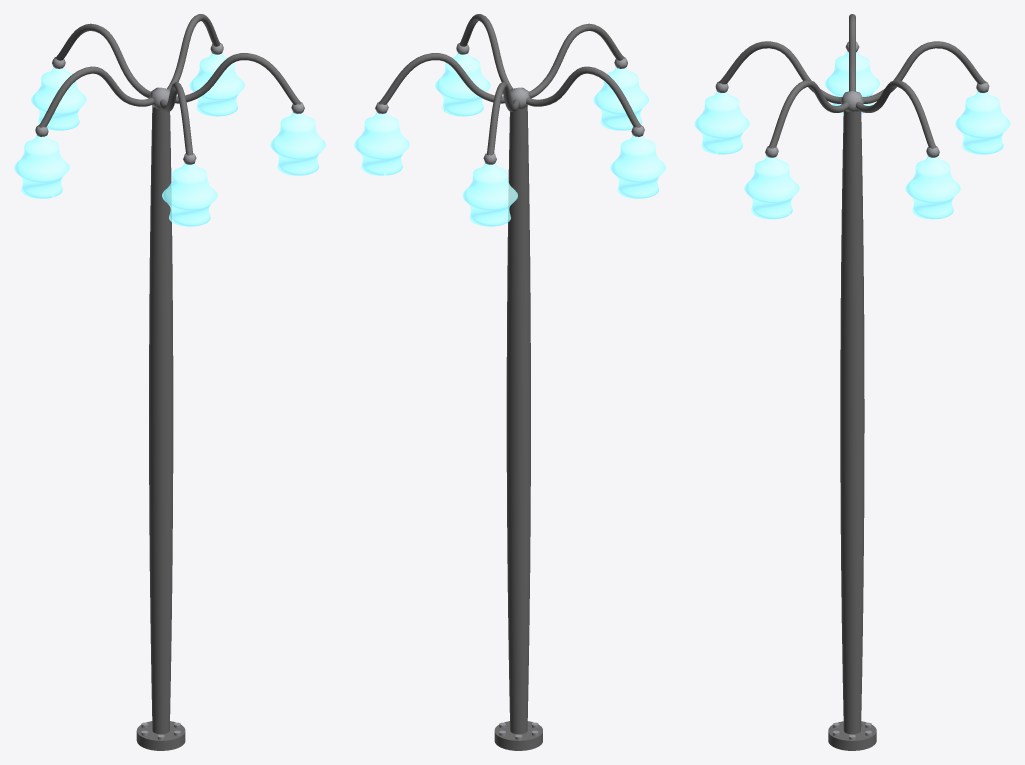
File: Street Lights.glb
The picture shows the model from 3 angles, left to right: view 1: azimuth 30°, elevation 25°; view 2: azimuth 150°, elevation 25°; view 3: azimuth 270°, elevation 25°; orthographic projection.
Parts seen in each view (by area): view 1: Pole, Lantern (×5), LanternArm (×5), Base; view 2: Pole, Lantern (×5), LanternArm (×5), Base; view 3: Pole, Lantern (×5), LanternArm (×5), Base.
Part boxes in pixels (<box>): Pole: <box>149,106,173,734</box>; Lantern (×5): <box>14,53,325,226</box>; LanternArm (×5): <box>38,14,301,155</box>; Base: <box>136,721,185,750</box>; Pole: <box>506,106,530,734</box>; Lantern (×5): <box>354,53,665,226</box>; LanternArm (×5): <box>378,14,641,155</box>; Base: <box>494,721,542,750</box>; Pole: <box>840,111,864,734</box>; Lantern (×5): <box>694,51,1010,219</box>; LanternArm (×5): <box>718,14,986,148</box>; Base: <box>828,721,876,750</box>.
Size of the model in its own units: 1.09 by 2.73 by 1.14.
